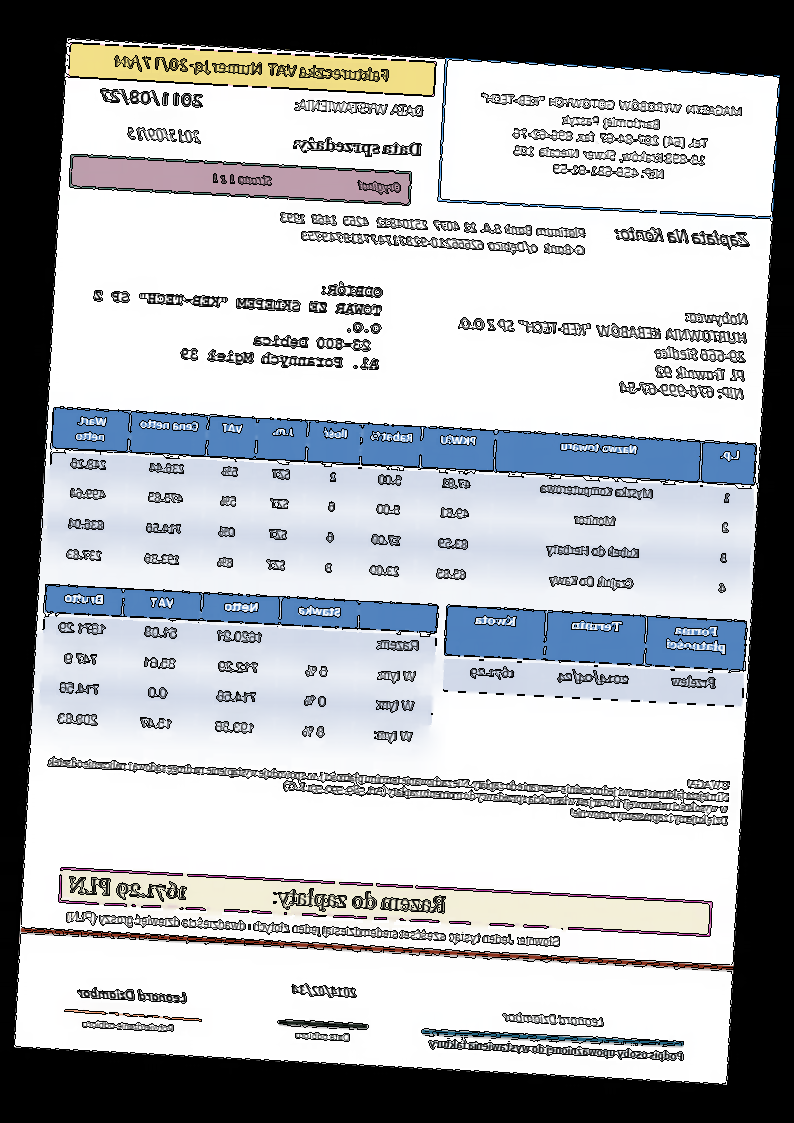Table: (44, 405, 757, 609), (36, 583, 440, 757), (441, 603, 748, 709)
TextBox: (44, 743, 733, 830), (86, 266, 386, 375), (454, 295, 752, 403), (474, 89, 745, 187), (66, 906, 562, 953), (66, 872, 449, 920), (276, 209, 589, 260), (114, 51, 392, 86), (426, 1034, 686, 1065), (212, 171, 403, 197), (614, 223, 752, 252), (290, 134, 424, 160), (293, 95, 426, 121), (98, 87, 205, 113), (78, 984, 191, 1005), (500, 1008, 607, 1030), (126, 124, 203, 146), (81, 1018, 175, 1034), (290, 981, 359, 1001), (294, 1027, 354, 1044)
